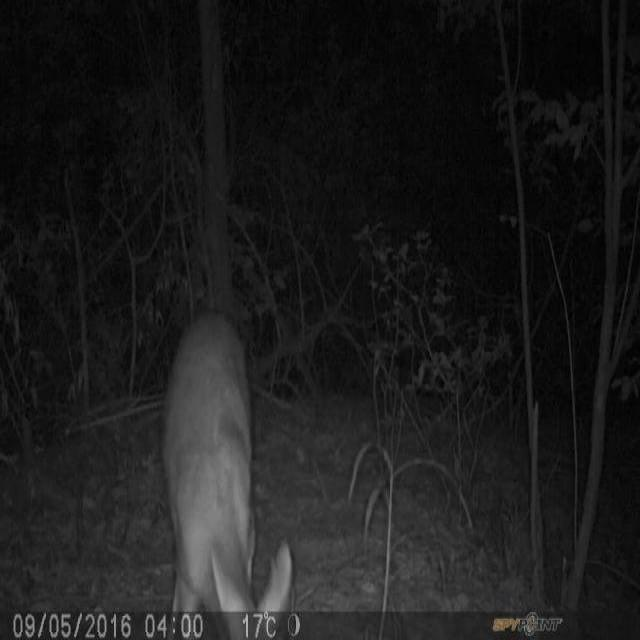deer: (162, 309, 294, 611)
